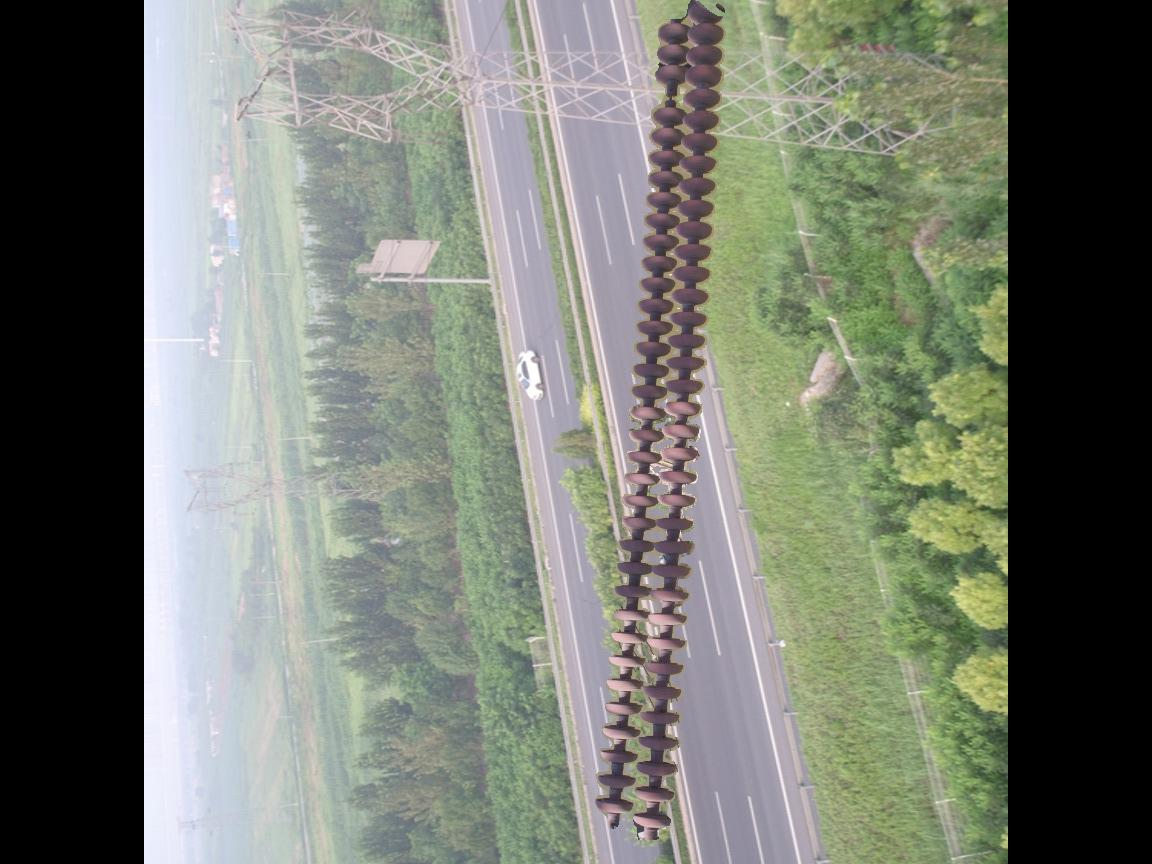insulator: (591, 12, 730, 840)
insulator_stringdrop: (648, 60, 690, 127)
